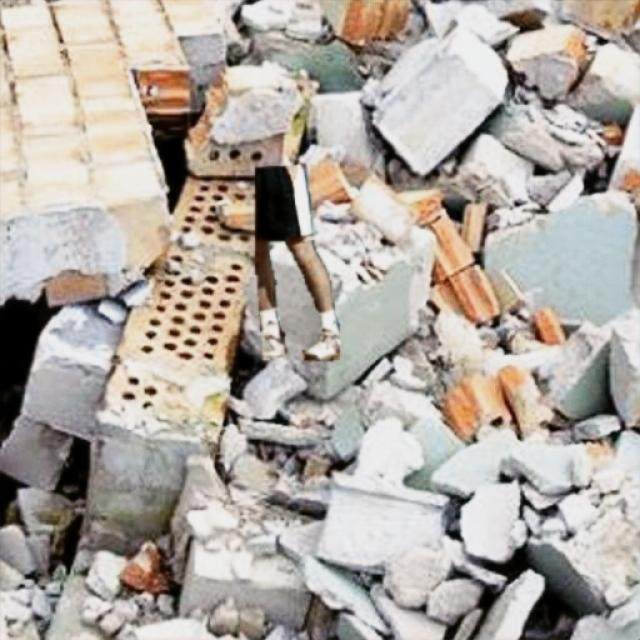Person in Rubble: (255, 162, 339, 362)
